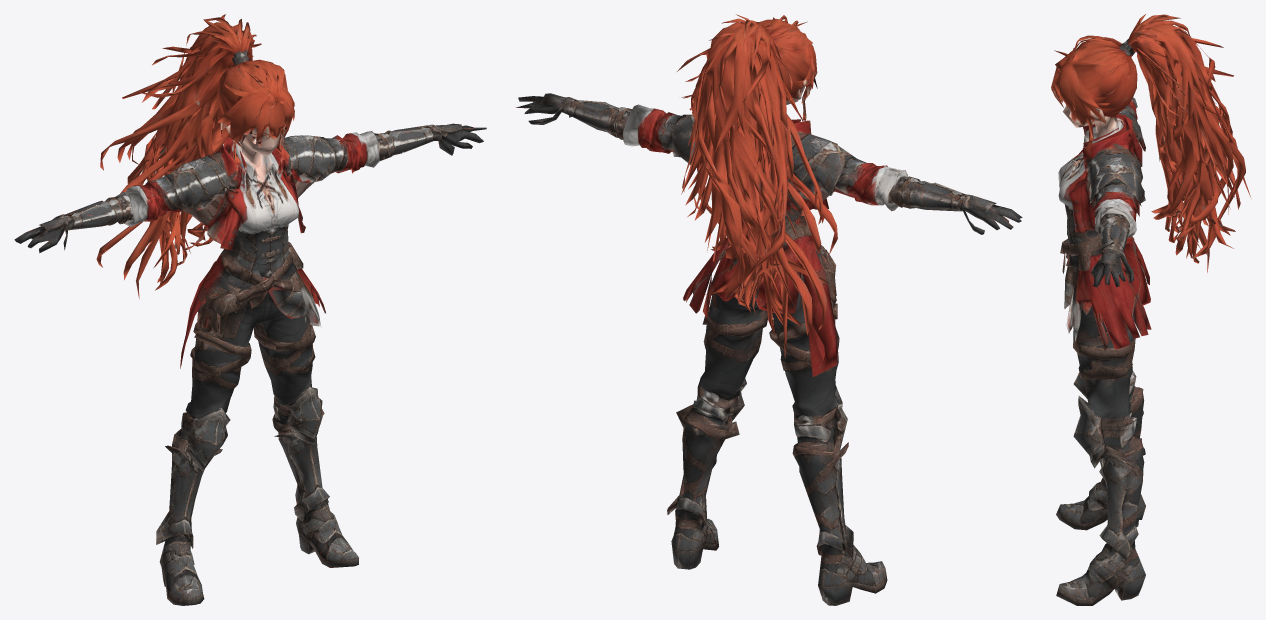
The model's file is Warrior.fbx.
3 views of the same model, side by side, from view 1: azimuth 30°, elevation 25°; view 2: azimuth 150°, elevation 25°; view 3: azimuth 270°, elevation 25° (orthographic). The views are drawn at different scales.
Visible parts, largest first — view 1: Mesh_0; view 2: Mesh_0; view 3: Mesh_0.
Boxes of the visible parts, box(x1,y1,x2,y2) form: Mesh_0: box(14, 14, 486, 605); Mesh_0: box(516, 14, 1022, 605); Mesh_0: box(1051, 14, 1251, 605).
Bounding box in the file's own units: 174 × 190 × 63.56.
Materials: 1 (1 with a texture image).
